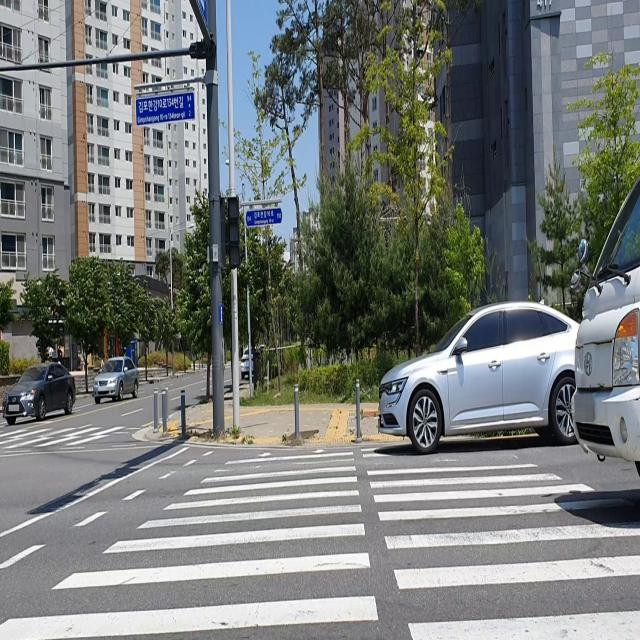횡단보도: (0, 445, 640, 640), (0, 424, 145, 443)
